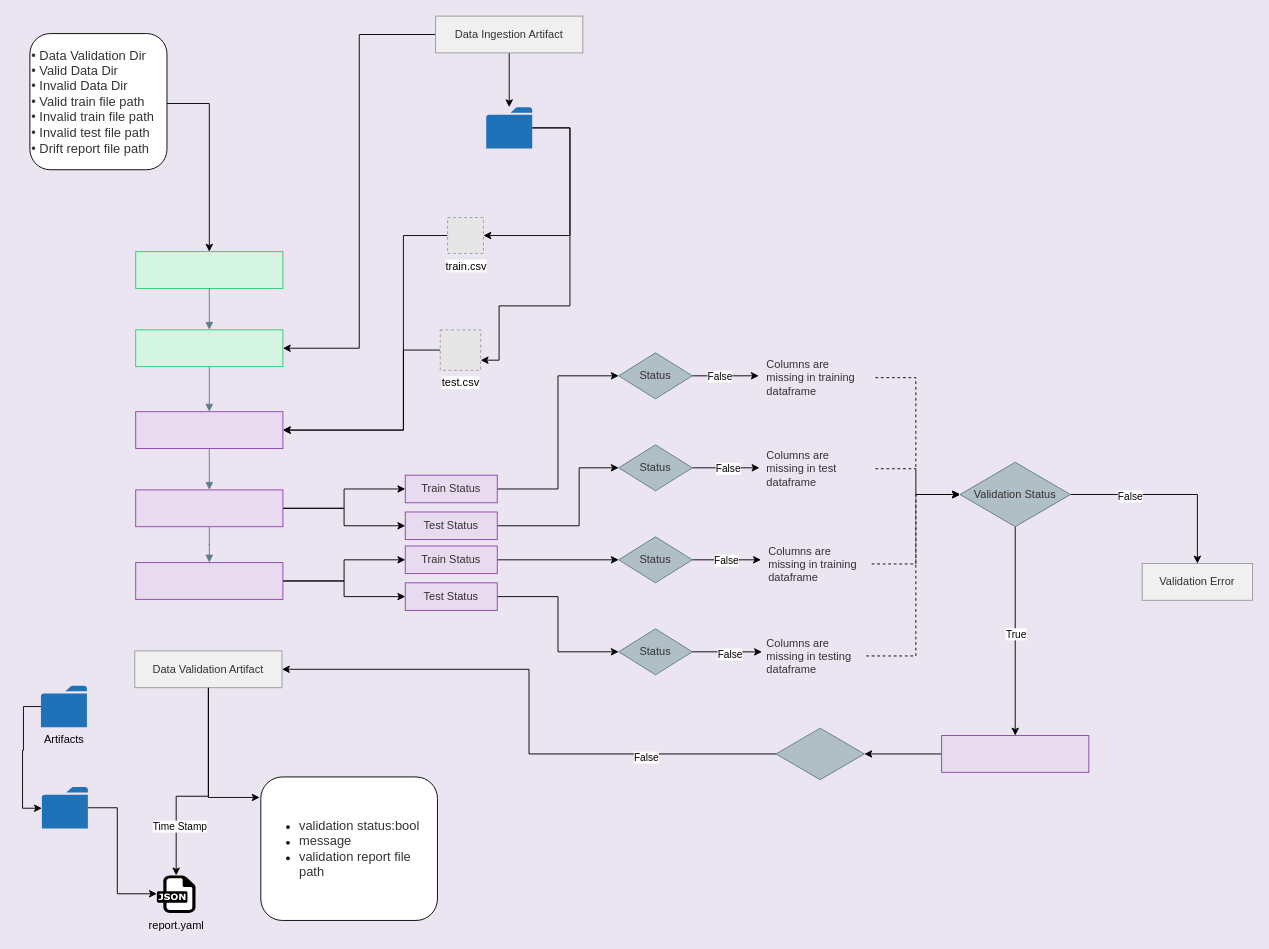
This 1269x949 diagram has some shape labels left out. Grey dashed boxes stand in for pictures. The shapes that lost their labels are listed below. From the top down, each one's centre as x and y in pixels, then its label:
point (509, 127): Ingested
point (209, 269): Data Validation Config
point (209, 348): Initiate Data Validation
point (209, 429): Read Data
point (209, 508): Validate number of Columns
point (209, 580): Is columns exist
point (819, 753): Drift Status
point (1015, 753): Detect Dataset Drift
point (64, 807): Data Validation
